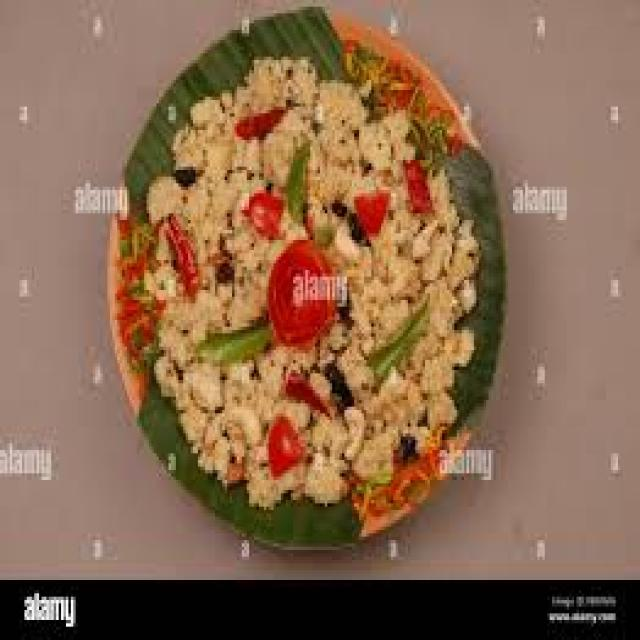UPMA: (110, 27, 476, 520)
